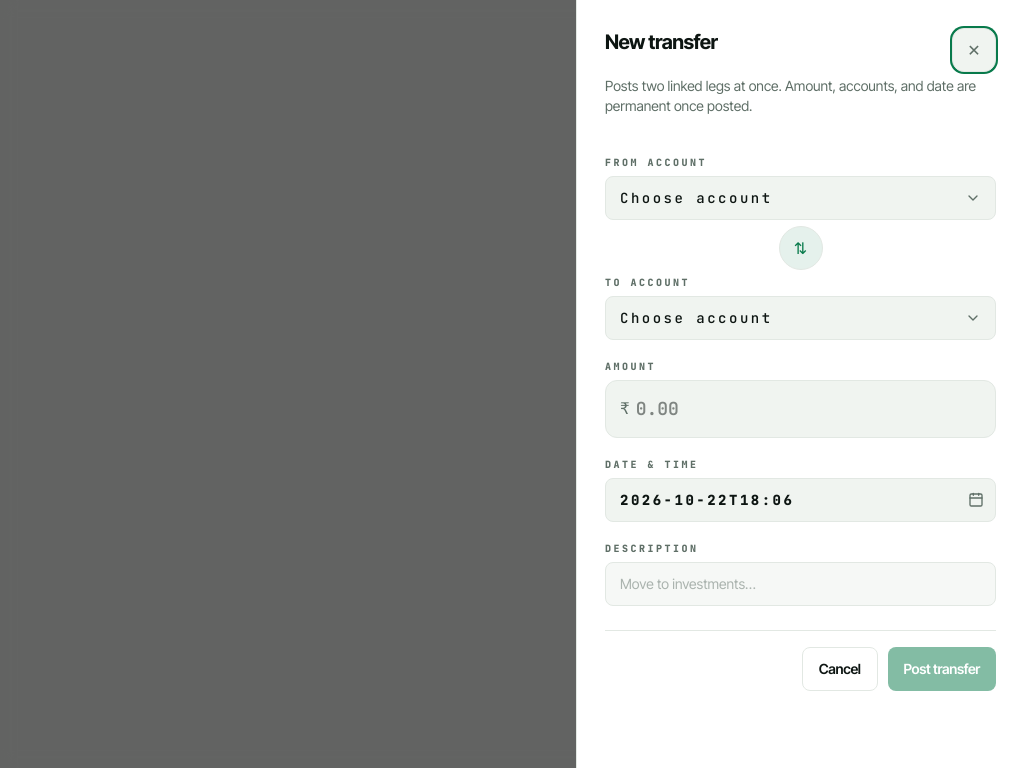
CreateTransferSheet › disables Post transfer until both accounts, an amount, and a description are set
This screenshot has width=1024, height=768.
Expected: the button "Post transfer" is disabled, [888, 647, 996, 691]
Click the dropdown named "From account".
click(696, 198)  # box [605, 176, 996, 220]
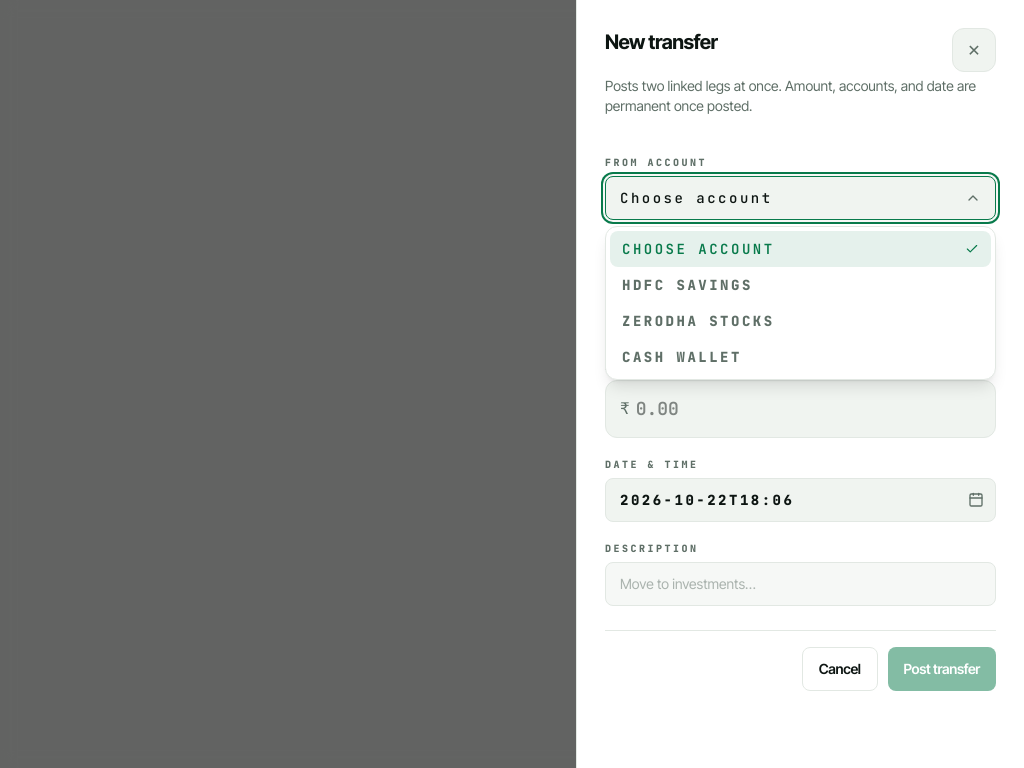
Click the option "HDFC Savings".
click(687, 285)  # box [622, 276, 753, 294]
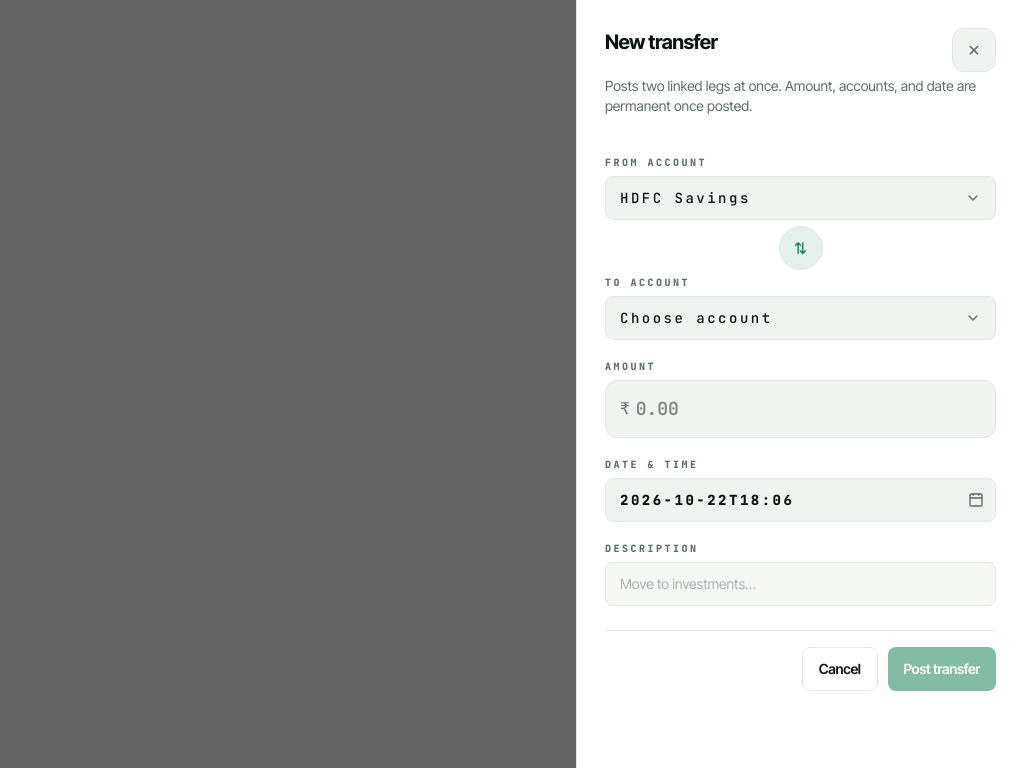
Click the dropdown named "To account".
click(696, 318)  # box [605, 296, 996, 340]
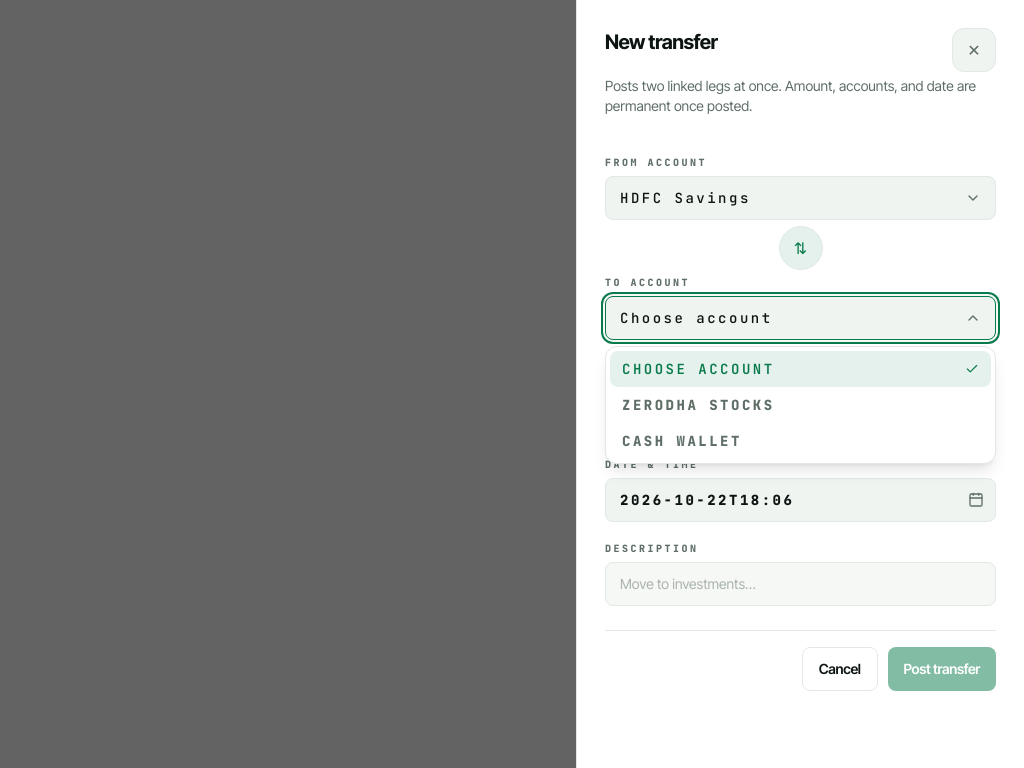
Click the option "Zerodha Stocks".
click(698, 405)  # box [622, 396, 775, 414]
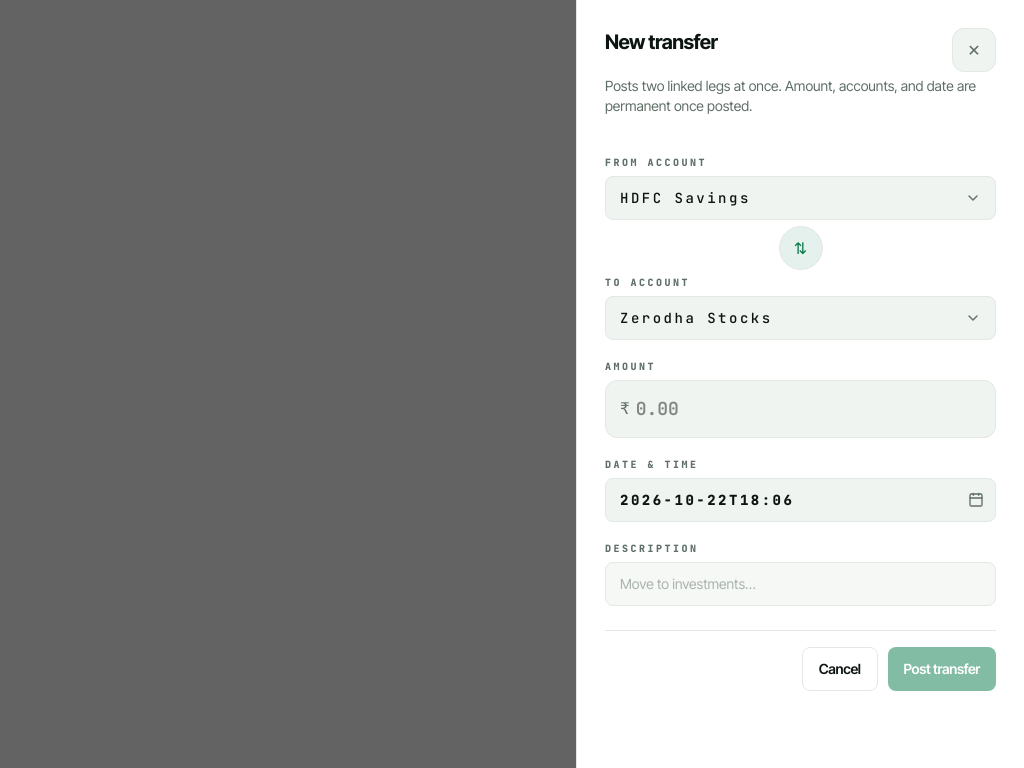
Type "5000" into the field labelled "Amount".
click(808, 409); type("5000")  # box [636, 381, 981, 437]
Press Tab
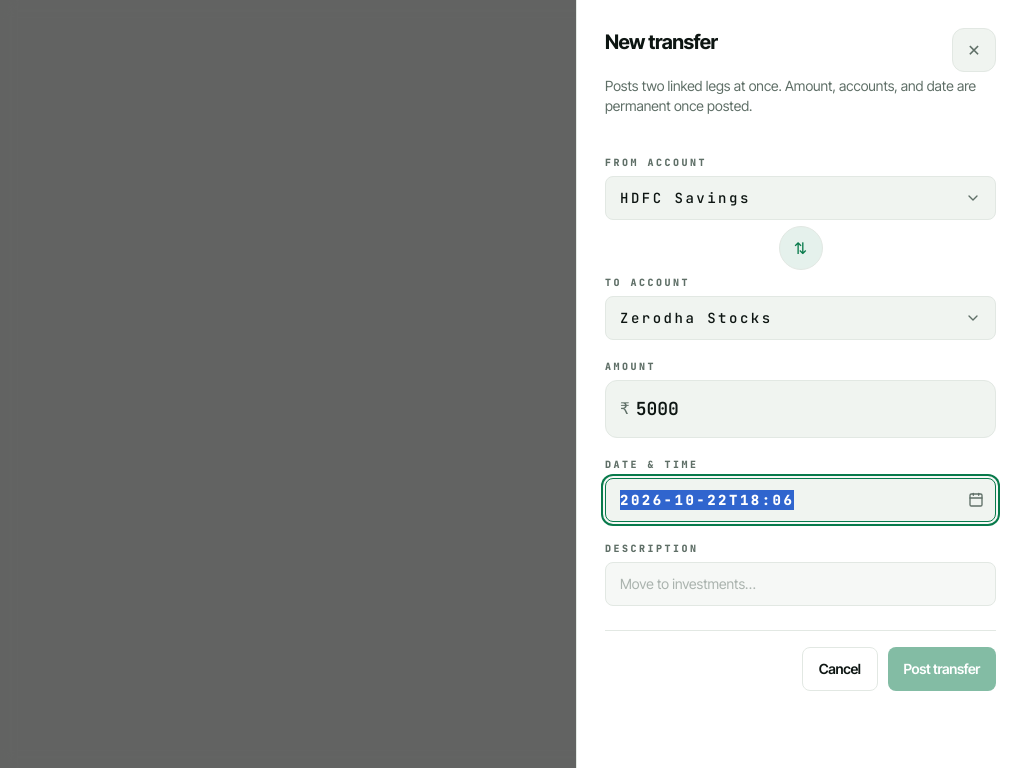
Expected: the button "Post transfer" is disabled, [888, 647, 996, 691]
Type "Move to investments" into the field labelled "Description".
click(800, 584); type("Move to investments")  # box [605, 562, 996, 606]
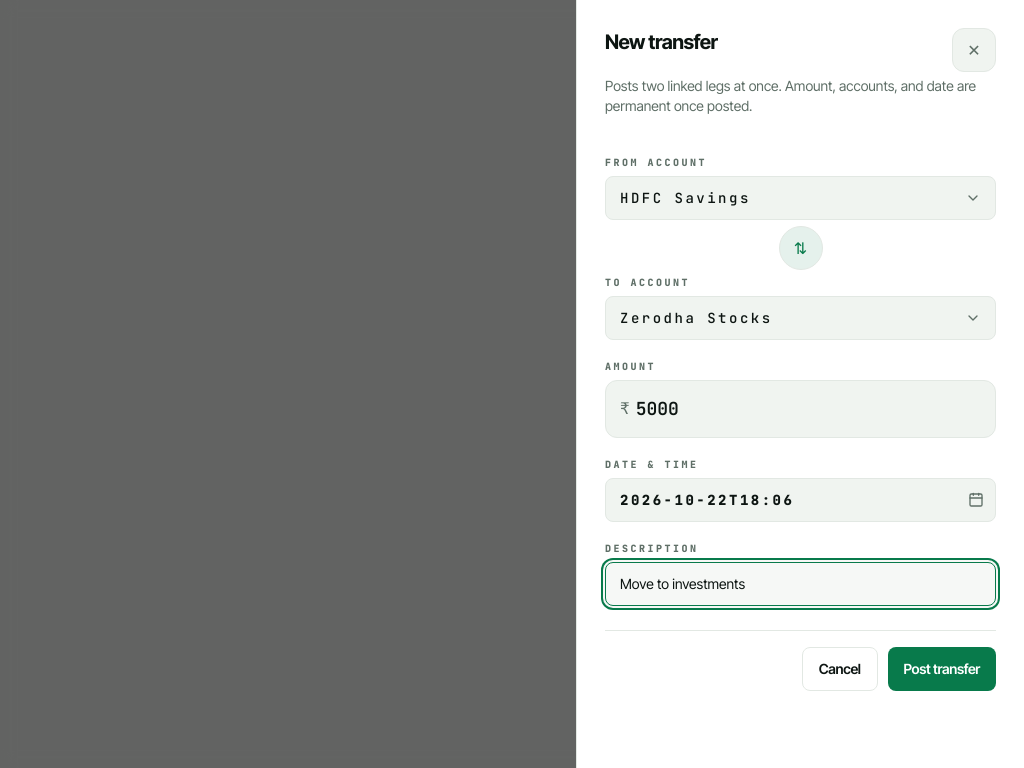
Expected: the button "Post transfer" is enabled, [888, 647, 996, 691]
